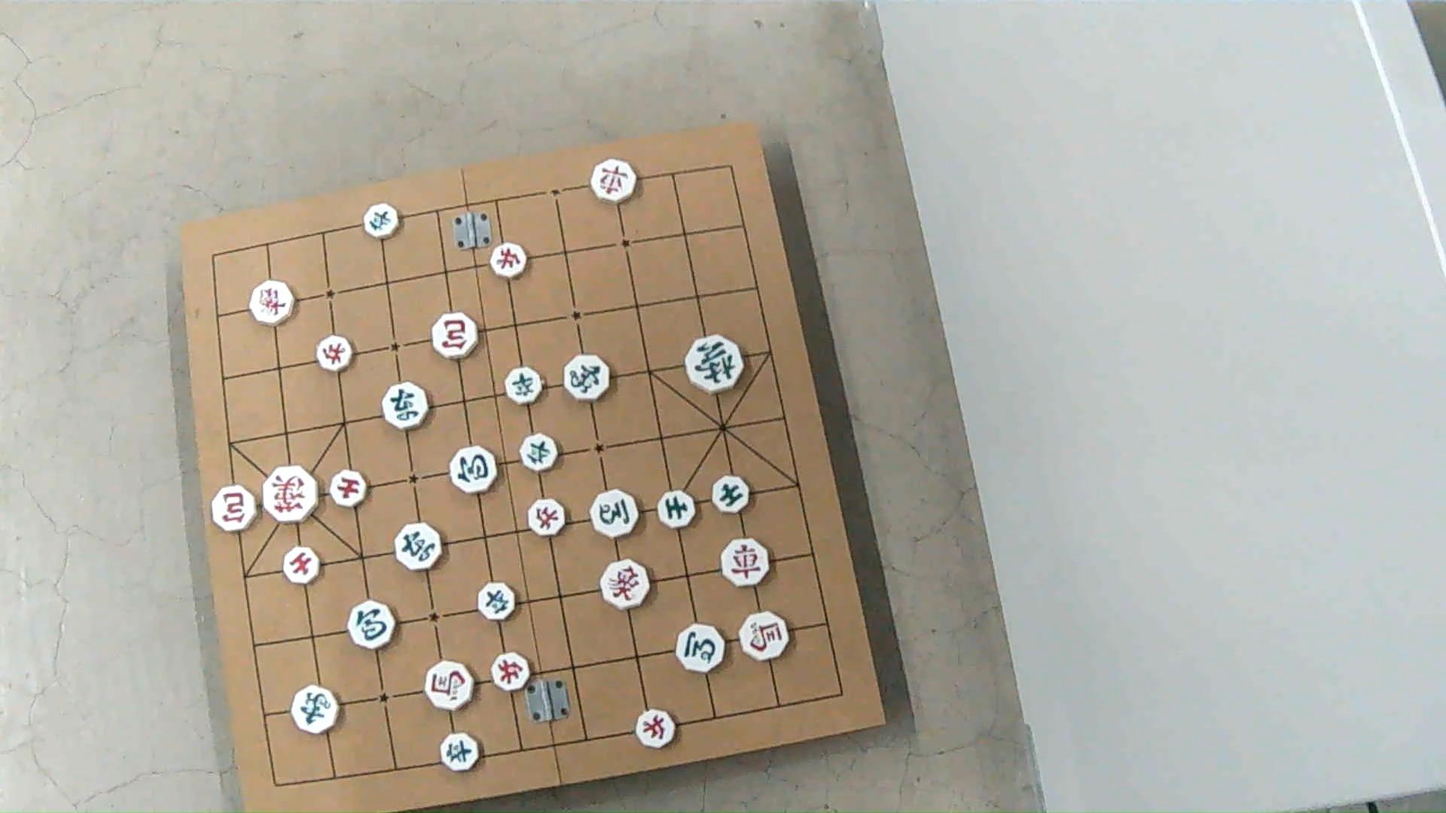cha_green: (395, 523, 442, 571), (381, 384, 427, 431)
cha_red: (721, 540, 768, 589), (593, 161, 639, 204)
jol_green: (439, 732, 480, 770), (518, 434, 557, 470), (506, 367, 544, 403), (478, 582, 514, 619), (367, 204, 401, 239)
jol_red: (638, 710, 677, 748), (491, 651, 529, 690), (530, 500, 567, 537), (316, 336, 352, 373), (490, 243, 526, 279)
ma_green: (678, 624, 727, 671), (590, 489, 637, 538)
ma_red: (741, 612, 791, 661), (425, 660, 474, 710)
po_green: (452, 445, 499, 492), (350, 603, 396, 651)
po_red: (434, 315, 480, 361), (212, 486, 258, 531)
sa_green: (657, 489, 694, 527), (713, 477, 749, 513)
sa_red: (284, 549, 321, 586), (328, 469, 365, 506)
sang_green: (291, 687, 340, 735), (565, 355, 612, 400)
sang_red: (602, 562, 650, 610), (252, 279, 297, 324)
wang_green: (686, 336, 743, 393)
wang_red: (265, 466, 321, 522)
